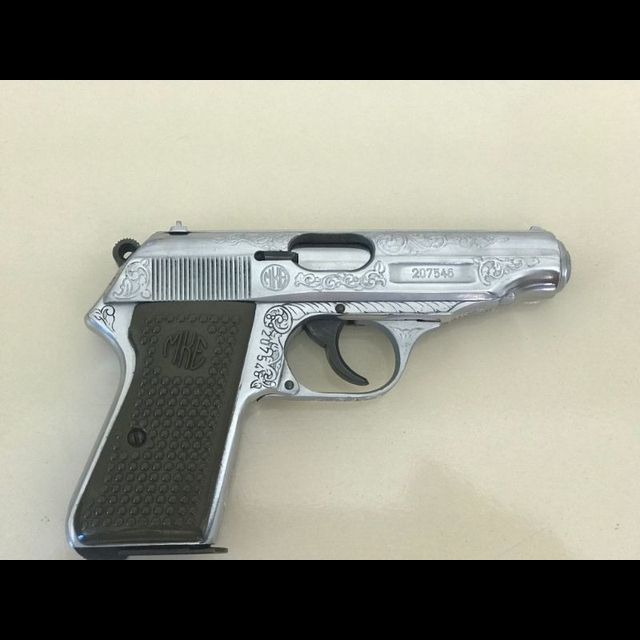SILAH: (58, 212, 576, 558)
